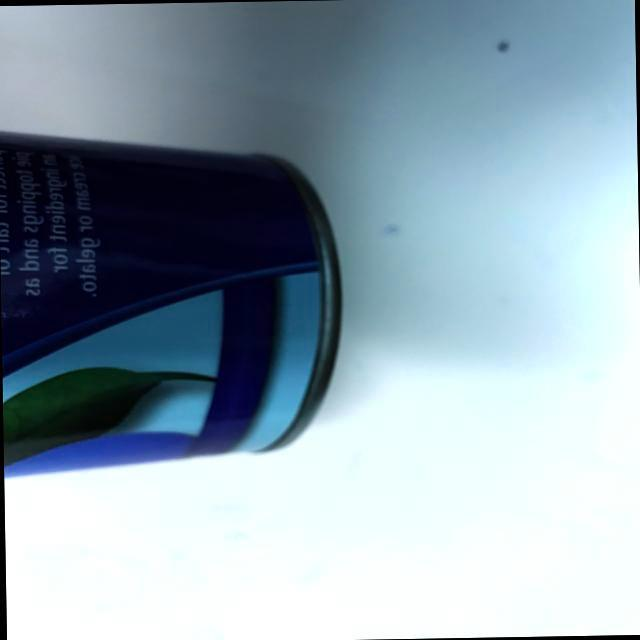metal: (0, 111, 351, 499)
